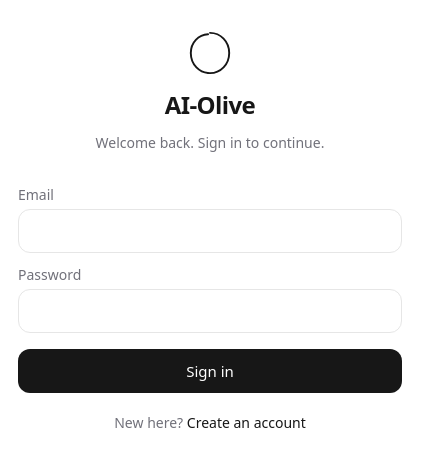
Test case: LoginPage › shows an error on bad credentials
Type "me@example.com" into the field labelled "Email" at (210, 231), box [18,209,402,253]
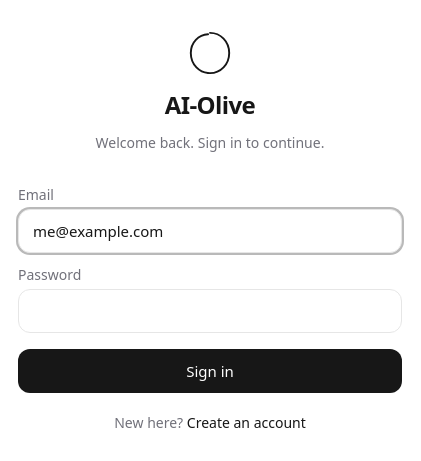
Type "wrong" into the password field labelled "Password" at (210, 311), box [18,289,402,333]
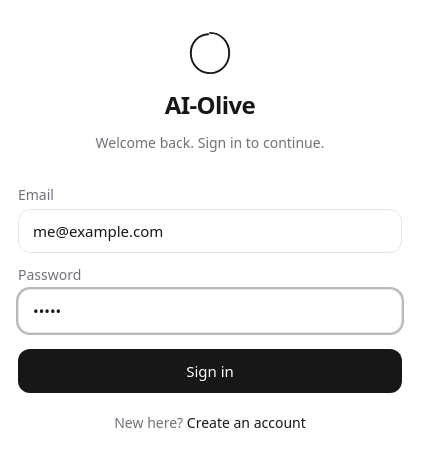
Click the button "Sign in" at (210, 371), box [18,349,402,393]
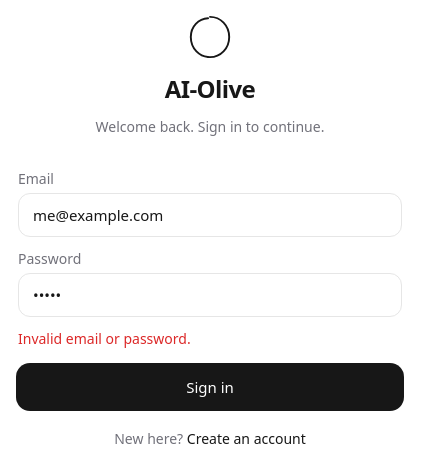
Now the text "Invalid email or password." is shown, box [18,329,191,348]
